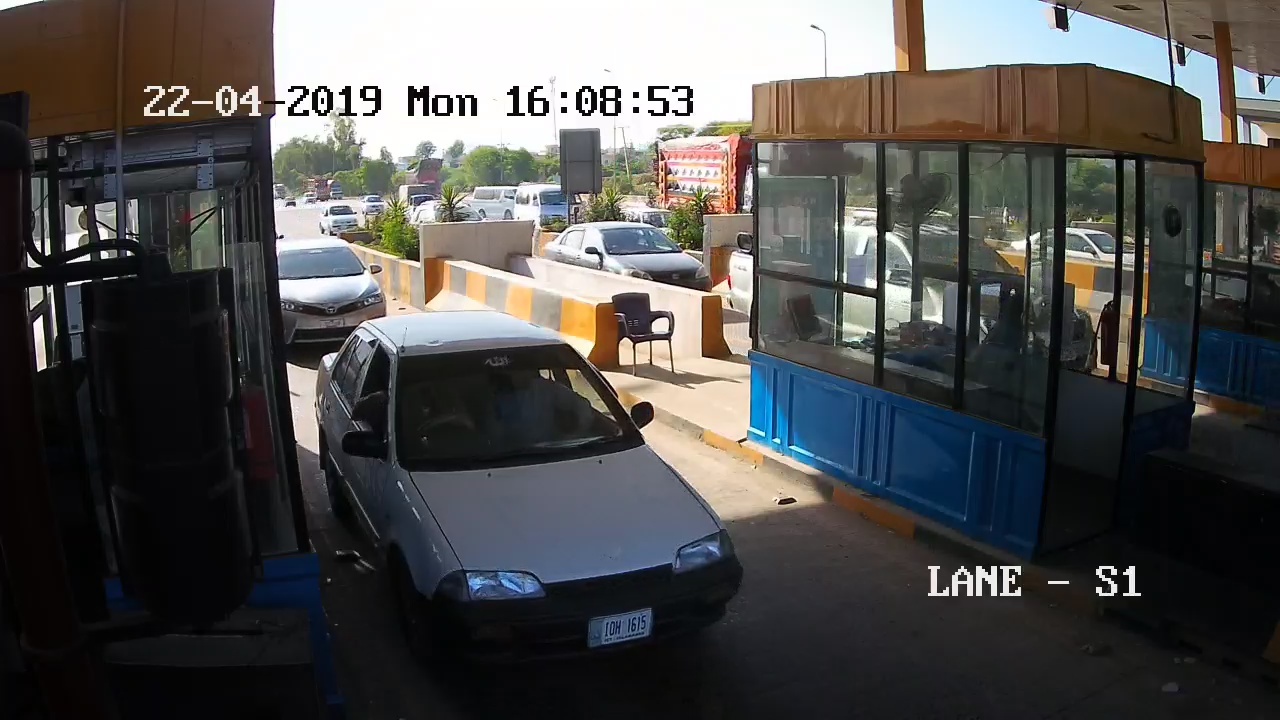Number Plate (Car): (587, 611, 651, 644), (320, 320, 343, 328)
